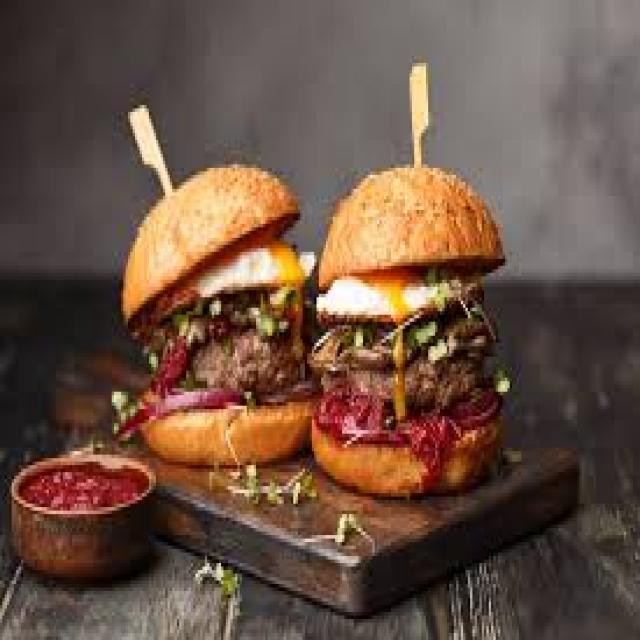Wet Waste: (126, 169, 314, 470), (337, 152, 506, 484)
